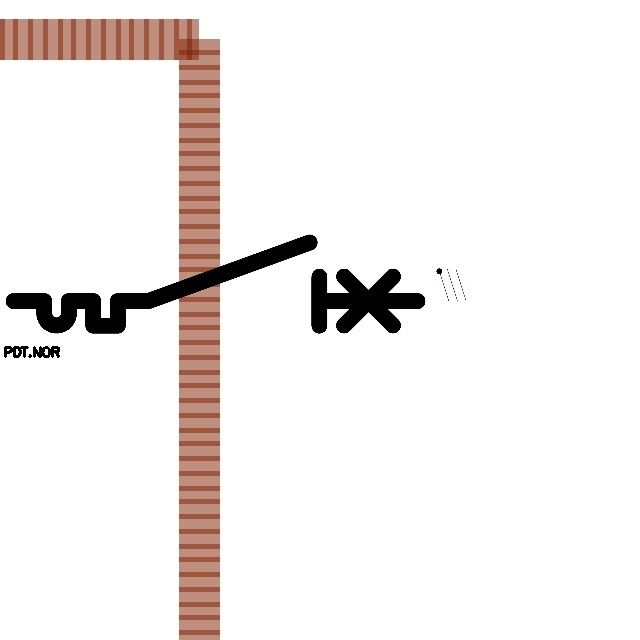interruptor_termomagnetico: (3, 232, 427, 336)
